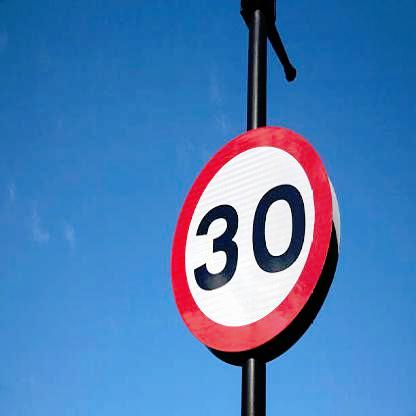Speed Limit -30-: (172, 129, 343, 361)
